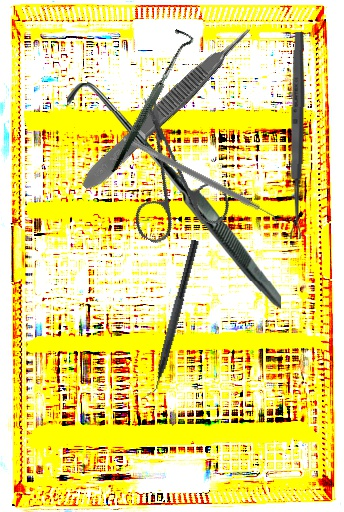Chopper: (139, 236, 200, 404)
Hook Surgical: (67, 79, 281, 313), (65, 24, 231, 173)
Iris Scissors: (85, 92, 260, 268)
Spatula Surgical: (118, 134, 285, 228)
Surgical Spoon: (288, 31, 306, 240)
Tissue Forceps: (75, 22, 260, 195)
